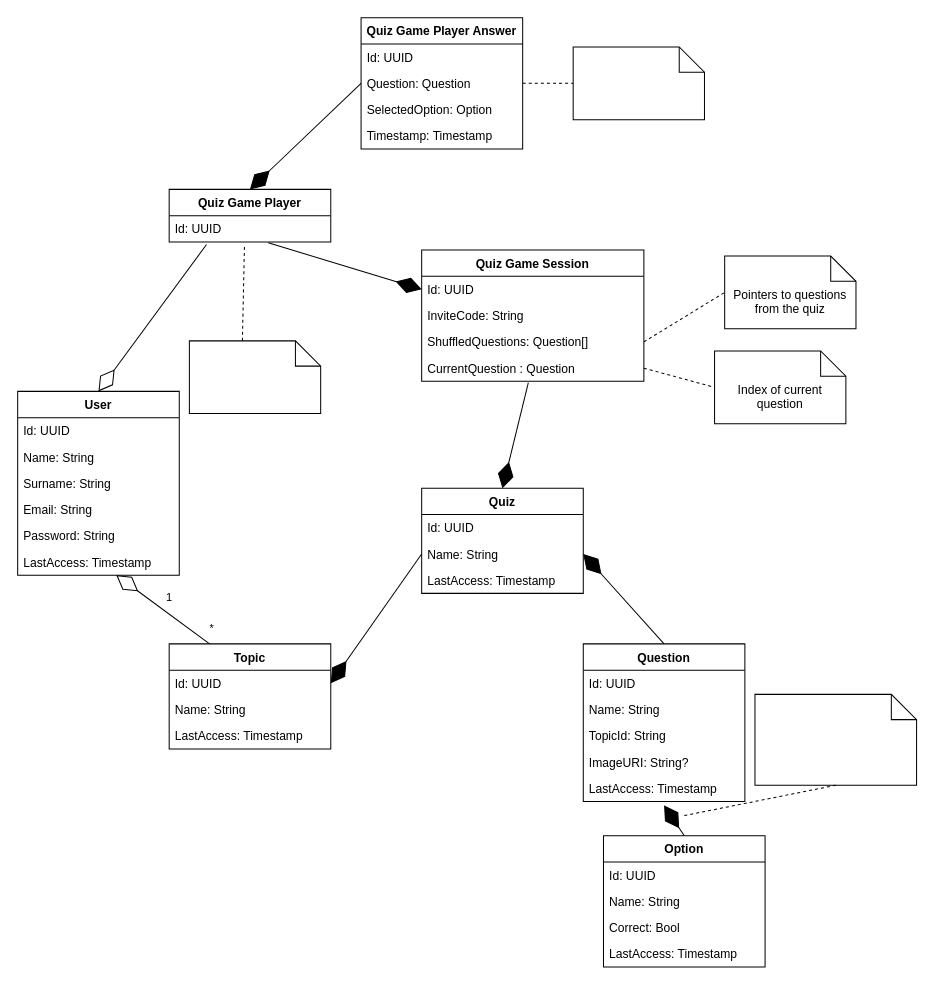
The diagram is 934 pixels wide and 988 high, and some of its shapes have lost their labels. The shapes that lost their labels are listed below. From the top down, each one's centre as x and y in pixels, then its label:
point (638, 83): Only one answer per question allowed
point (254, 377): Only 1 player per user in a single game
point (835, 739): Question must have only one correct option (not more or less)
